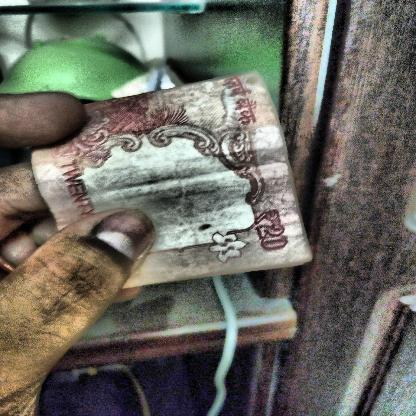Rs20: (243, 207, 298, 257)
